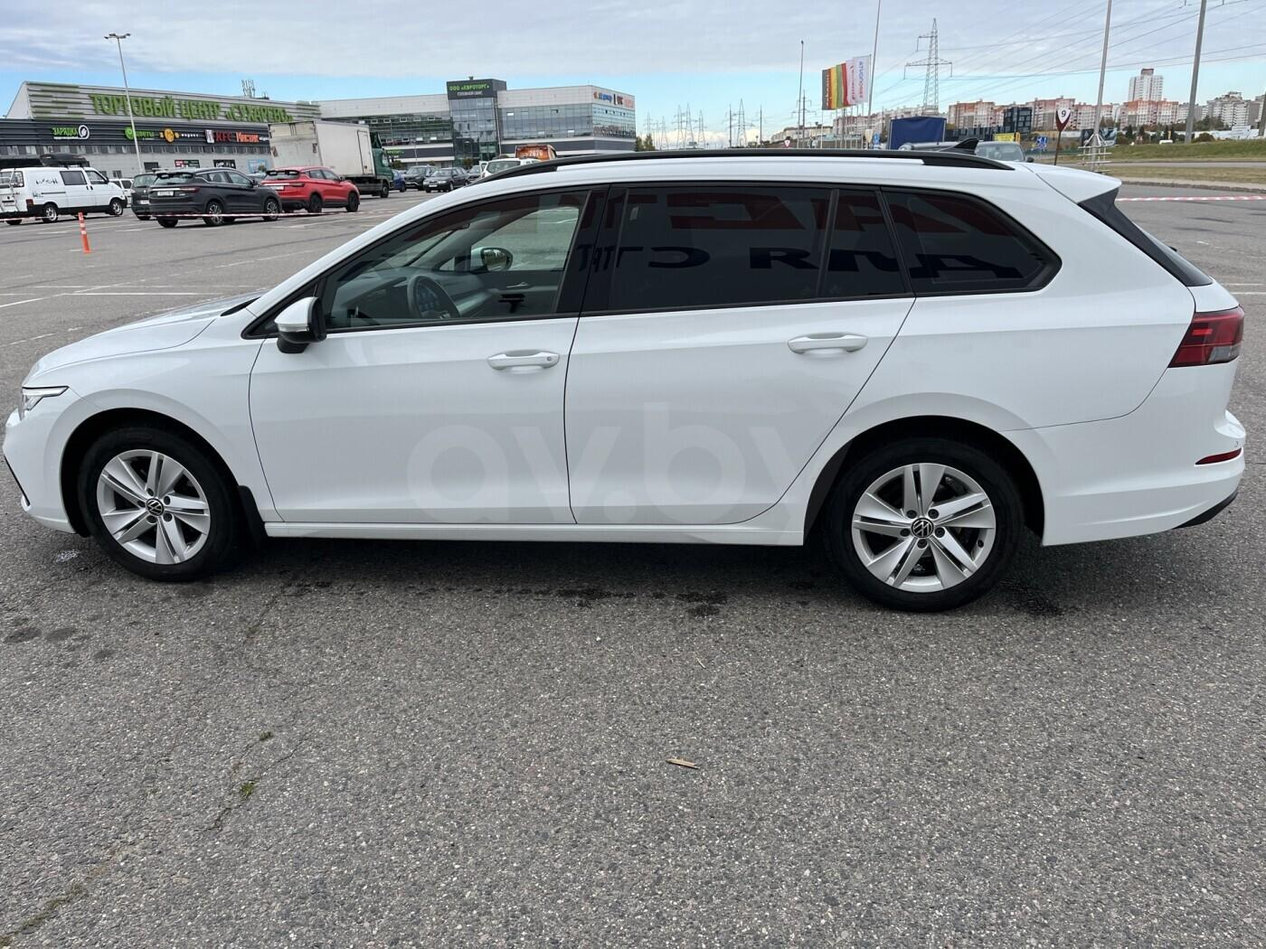Golf_2019: (12, 150, 1251, 611)
